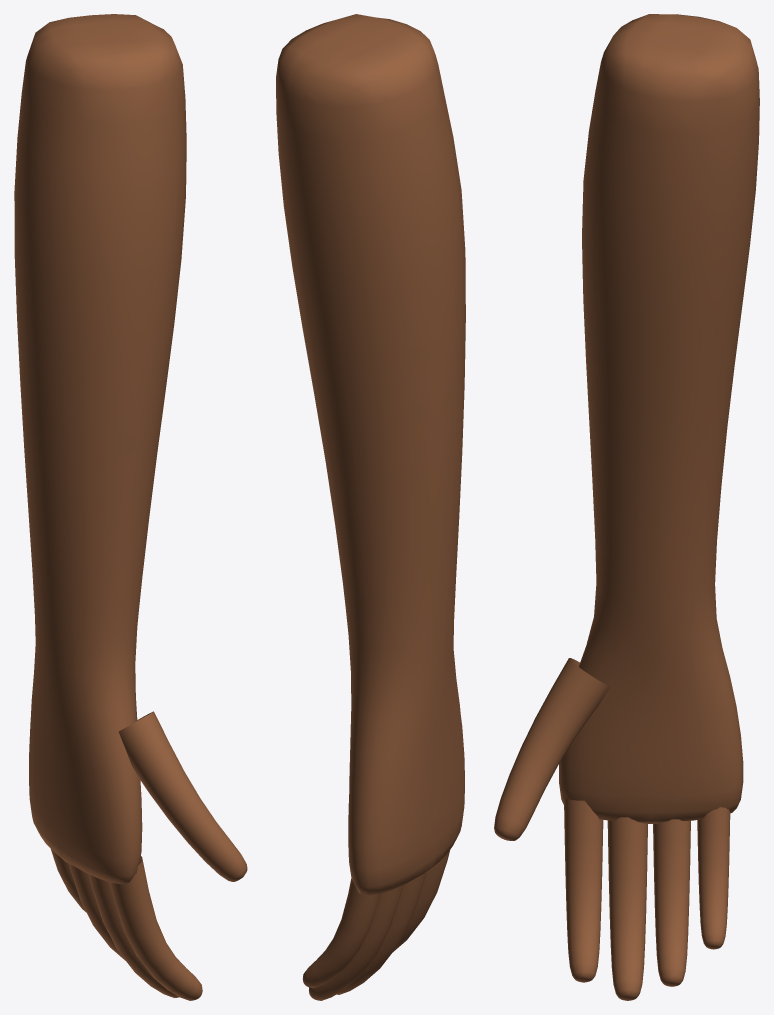
Rendered from antebrazoder.obj.
3 renders of one model, left to right at view 1: azimuth 30°, elevation 25°; view 2: azimuth 150°, elevation 25°; view 3: azimuth 270°, elevation 25°, orthographic. The views are drawn at different scales.
Parts seen in each view (by area): view 1: AntebrazoDer; view 2: AntebrazoDer; view 3: AntebrazoDer.
Boxes of the visible parts, x1=… form: AntebrazoDer: x1=14, y1=14, x2=247, y2=1000; AntebrazoDer: x1=276, y1=14, x2=465, y2=1000; AntebrazoDer: x1=494, y1=14, x2=759, y2=1000.
Size of the model in its own units: 0.0476 by 0.2828 by 0.0722.
Materials: 1 (1 with a texture image).
